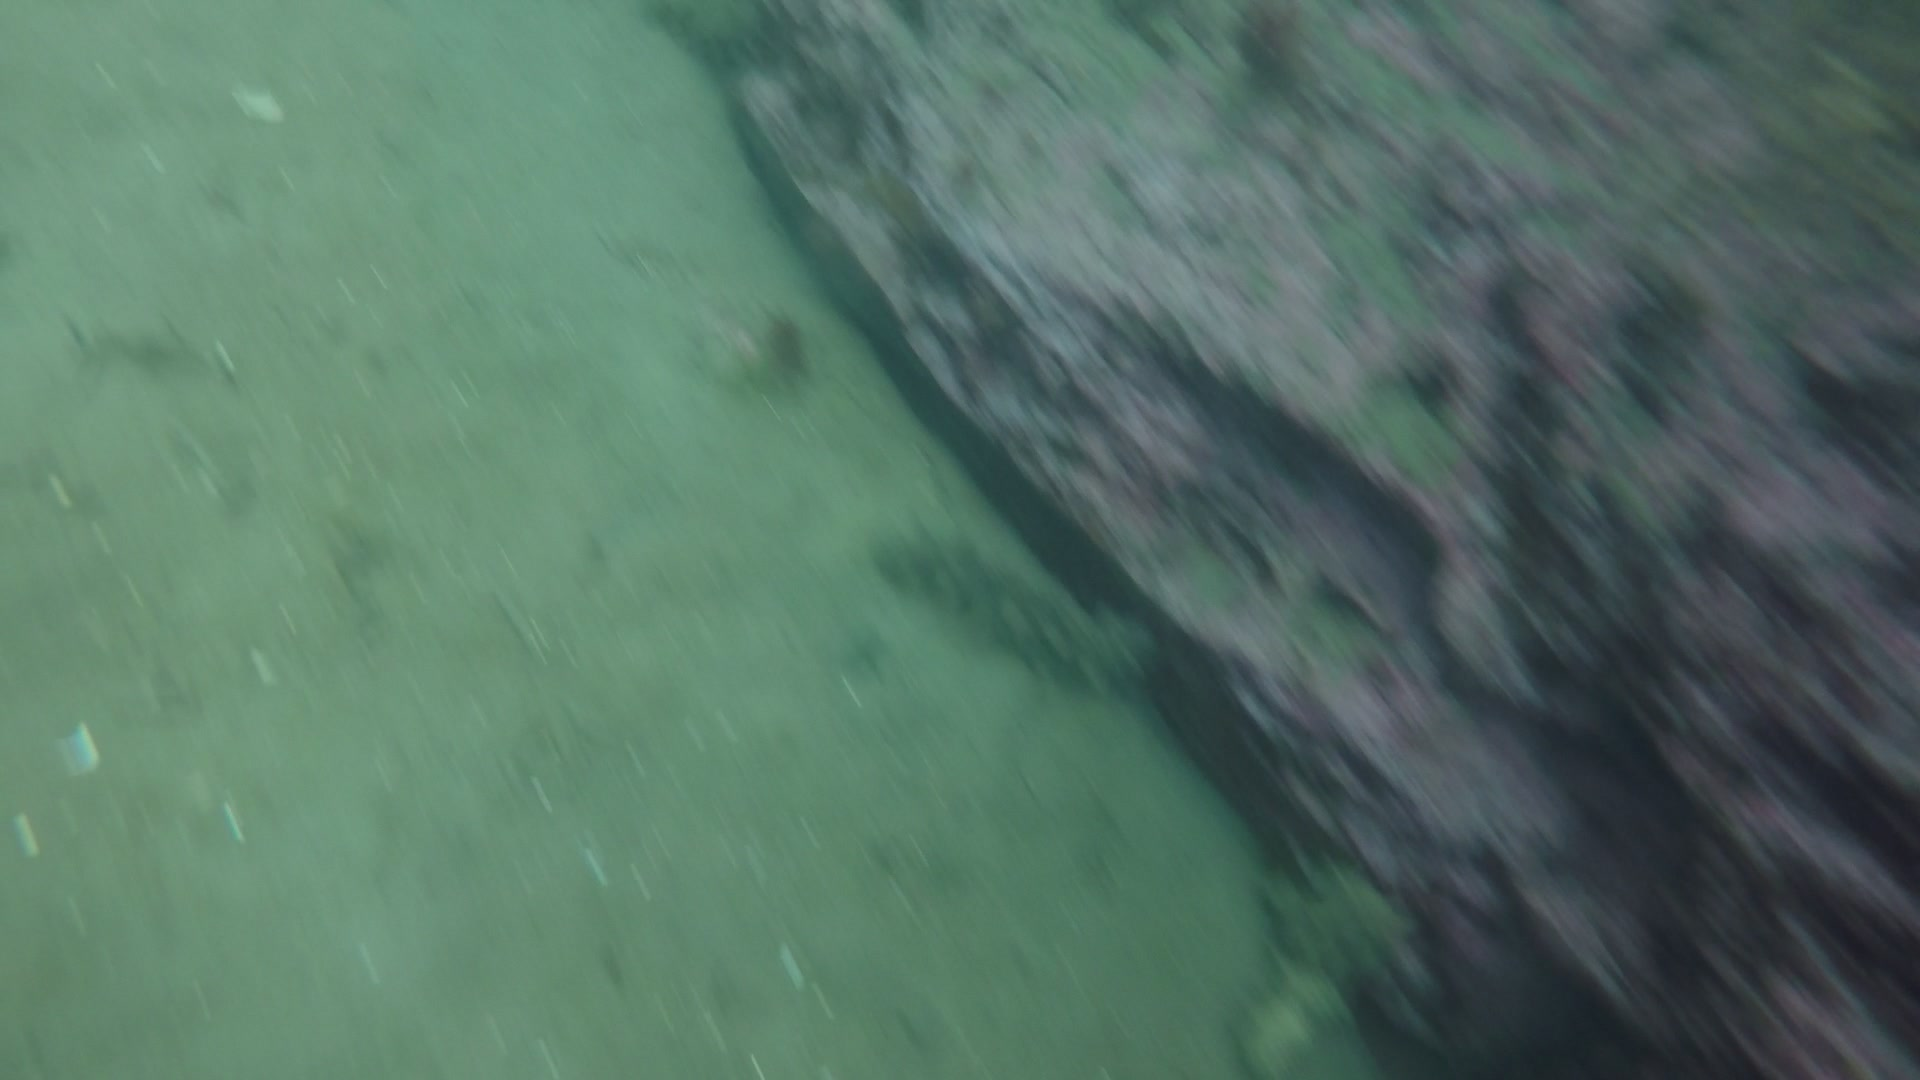holothurian: (868, 514, 1168, 698), (1236, 848, 1419, 1080)
